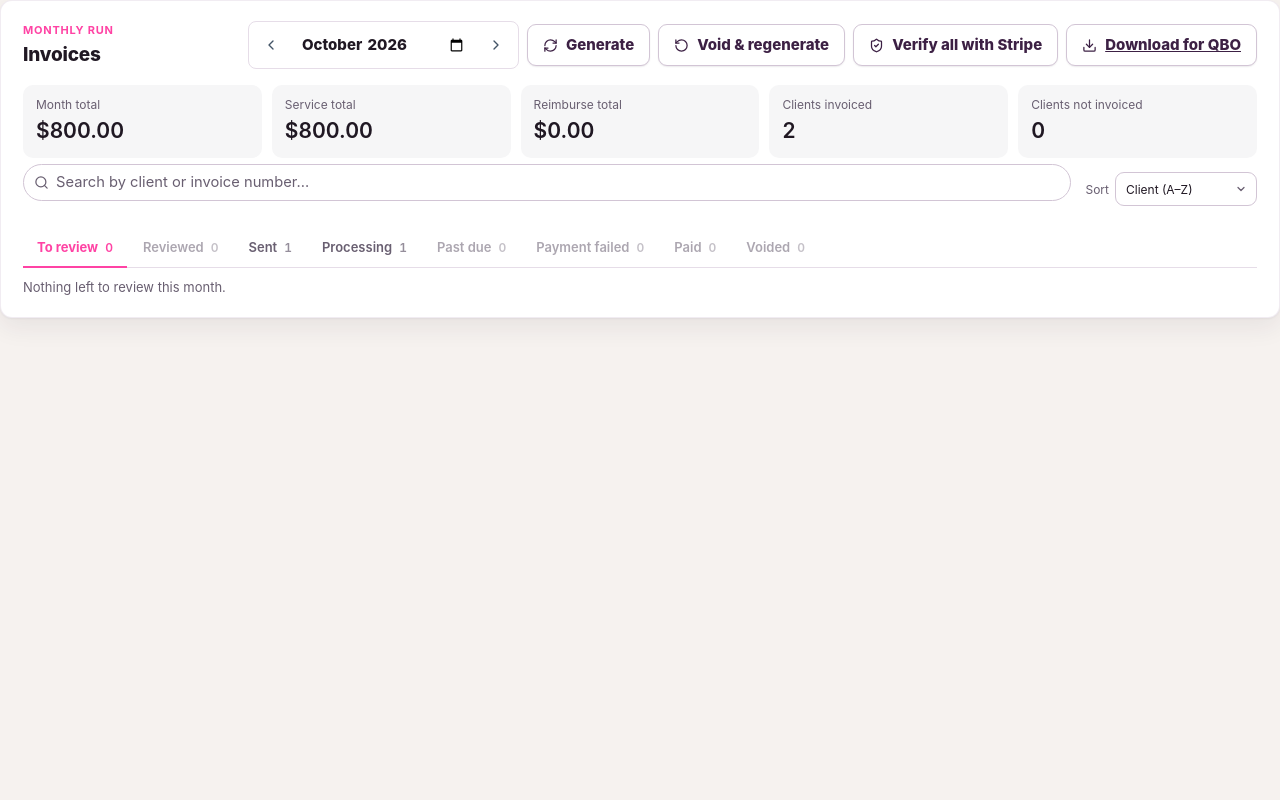
Test case: the Processing tab › offers no bulk action that would sweep a clearing invoice in with the sent ones
The width and height of the screenshot is (1280, 800).
What coordinates should you click on to do the following:
click the tab "Sent 1"
I would click on:
 (270, 249)
Its box is [234,229,306,268].
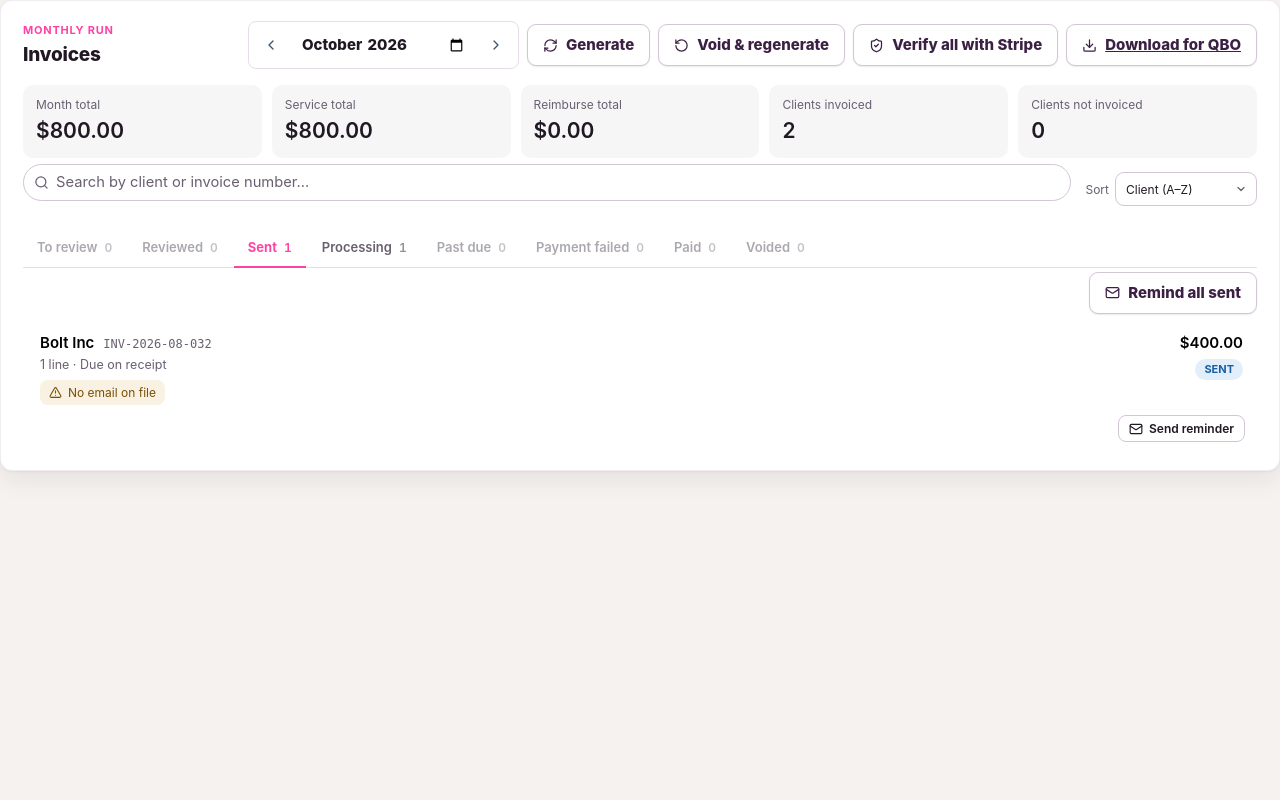
expect the text "INV-2026-08-032" is shown: met, box [103,336,212,353]
What coordinates should you click on to do the following:
click the button "Remind all sent"
I would click on:
 (1173, 293)
Its box is [1089,272,1257,314].
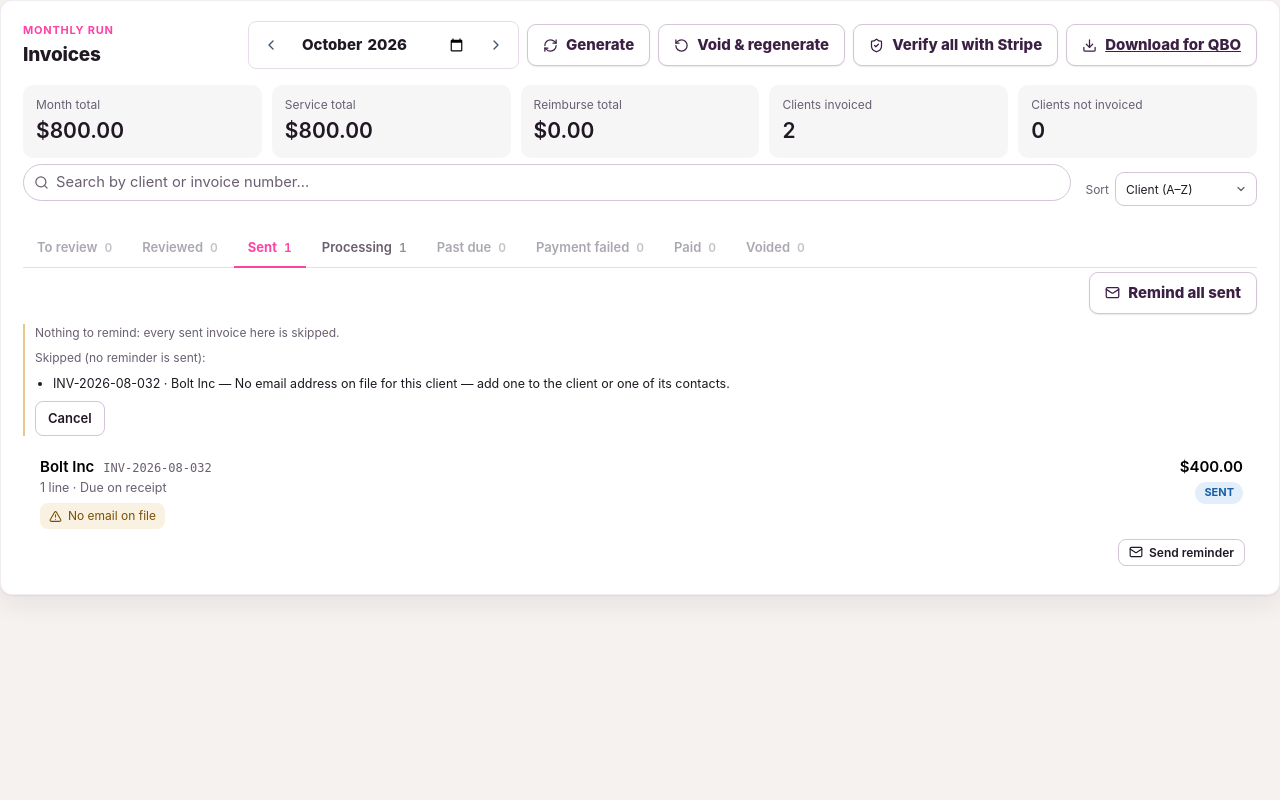
expect the list item "INV-2026-08-032" is shown: met, box [53,376,730,390]
